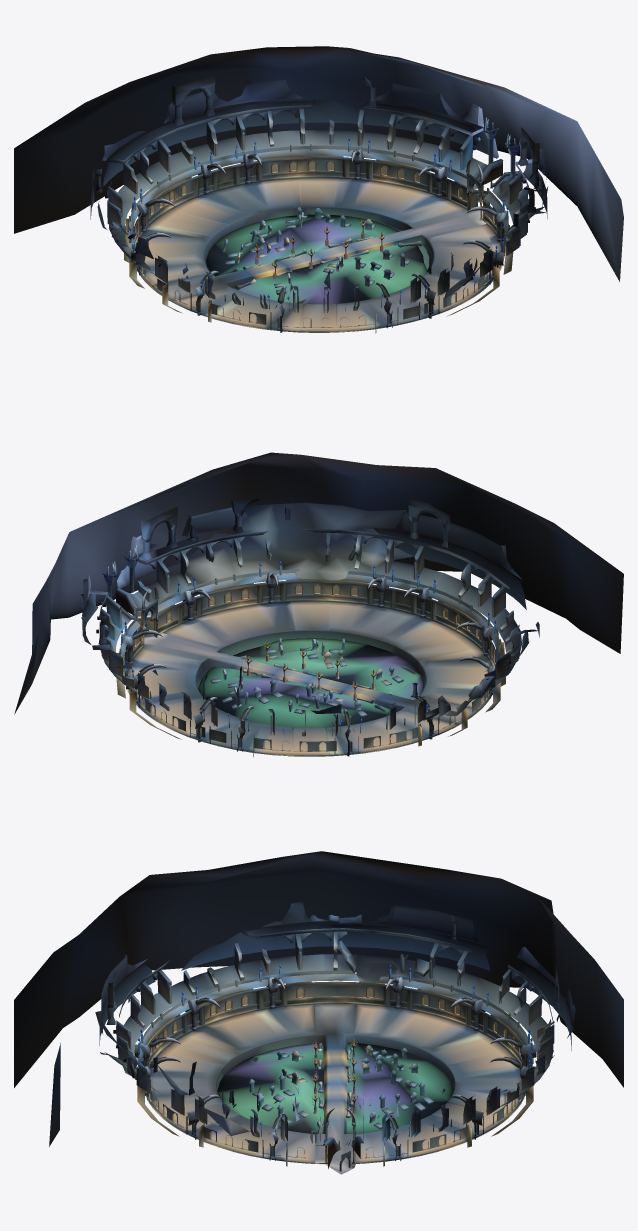
The model's file is 02Arena.gltf.
3 renders of one model, top to bottom at view 1: azimuth 30°, elevation 25°; view 2: azimuth 150°, elevation 25°; view 3: azimuth 270°, elevation 25°, orthographic. The views are drawn at different scales.
Visible parts, largest first — view 1: stg041_o48_Mesh_0053, stg041_o48_Mesh_0108, stg040_k48_Mesh_0008, stg041_o48_Mesh_0063, stg041_o48_Mesh_0021, stg041_o48_Mesh_0047, stg041_o48_Mesh_0095, stg041_o48_Mesh_0090, stg041_o48_Mesh_0080, stg041_o48_Mesh_0109, stg041_o48_Mesh_0105, stg041_o48_Mesh_0110 (+15 smaller); view 2: stg041_o48_Mesh_0053, stg041_o48_Mesh_0108, stg041_o48_Mesh_0001, stg040_k48_Mesh_0008, stg041_o48_Mesh_0047, stg041_o48_Mesh_0021, stg041_o48_Mesh_0095, stg041_o48_Mesh_0063, stg041_o48_Mesh_0080, stg041_o48_Mesh_0090, stg041_o48_Mesh_0109, stg041_o48_Mesh_0105 (+14 smaller); view 3: stg041_o48_Mesh_0053, stg041_o48_Mesh_0108, stg040_k48_Mesh_0008, stg041_o48_Mesh_0063, stg041_o48_Mesh_0047, stg041_o48_Mesh_0021, stg041_o48_Mesh_0095, stg041_o48_Mesh_0090, stg041_o48_Mesh_0080, stg041_o48_Mesh_0109, stg041_o48_Mesh_0105, stg041_o48_Mesh_0056 (+12 smaller).
Part boxes in pixels (bbox=[...]): stg041_o48_Mesh_0053: bbox=[14, 46, 623, 281]; stg041_o48_Mesh_0108: bbox=[145, 181, 493, 328]; stg040_k48_Mesh_0008: bbox=[206, 214, 427, 304]; stg041_o48_Mesh_0063: bbox=[90, 82, 548, 234]; stg041_o48_Mesh_0021: bbox=[92, 77, 546, 332]; stg041_o48_Mesh_0047: bbox=[96, 81, 538, 327]; stg041_o48_Mesh_0095: bbox=[129, 145, 519, 332]; stg041_o48_Mesh_0090: bbox=[109, 130, 521, 284]; stg041_o48_Mesh_0080: bbox=[120, 110, 509, 329]; stg041_o48_Mesh_0109: bbox=[151, 210, 485, 332]; stg041_o48_Mesh_0105: bbox=[128, 75, 534, 332]; stg041_o48_Mesh_0110: bbox=[152, 177, 484, 300]; stg041_o48_Mesh_0053: bbox=[14, 452, 623, 714]; stg041_o48_Mesh_0108: bbox=[135, 605, 484, 752]; stg041_o48_Mesh_0001: bbox=[187, 502, 413, 583]; stg040_k48_Mesh_0008: bbox=[198, 638, 423, 727]; stg041_o48_Mesh_0047: bbox=[81, 513, 528, 751]; stg041_o48_Mesh_0021: bbox=[83, 507, 519, 756]; stg041_o48_Mesh_0095: bbox=[101, 569, 500, 756]; stg041_o48_Mesh_0063: bbox=[82, 510, 539, 671]; stg041_o48_Mesh_0080: bbox=[104, 553, 496, 755]; stg041_o48_Mesh_0090: bbox=[100, 561, 522, 704]; stg041_o48_Mesh_0109: bbox=[142, 633, 478, 756]; stg041_o48_Mesh_0105: bbox=[133, 498, 494, 756]; stg041_o48_Mesh_0053: bbox=[14, 851, 623, 1146]; stg041_o48_Mesh_0108: bbox=[154, 1008, 516, 1159]; stg040_k48_Mesh_0008: bbox=[217, 1043, 452, 1133]; stg041_o48_Mesh_0063: bbox=[99, 907, 575, 1131]; stg041_o48_Mesh_0047: bbox=[101, 903, 554, 1171]; stg041_o48_Mesh_0021: bbox=[101, 902, 572, 1168]; stg041_o48_Mesh_0095: bbox=[139, 970, 531, 1163]; stg041_o48_Mesh_0090: bbox=[117, 954, 553, 1106]; stg041_o48_Mesh_0080: bbox=[130, 951, 540, 1157]; stg041_o48_Mesh_0109: bbox=[163, 1037, 507, 1173]; stg041_o48_Mesh_0105: bbox=[113, 962, 559, 1174]; stg041_o48_Mesh_0056: bbox=[248, 1045, 433, 1129].
Bounding box in the file's own units: 252 × 75.83 × 254.
